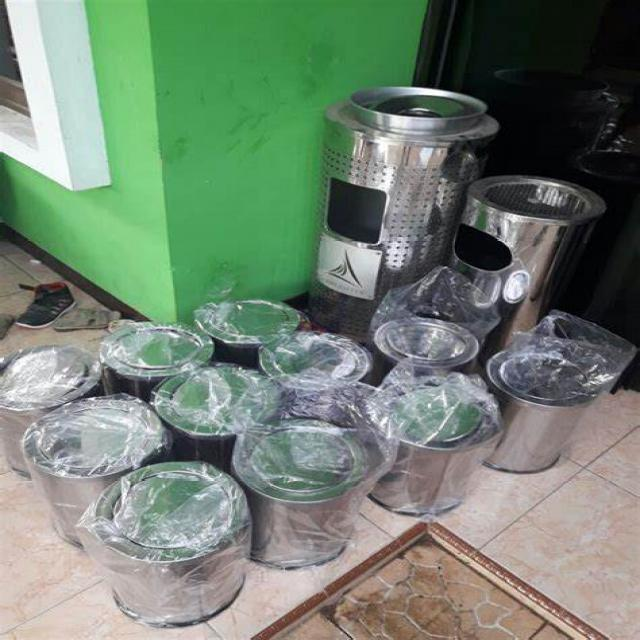garbage container: (324, 77, 508, 322), (94, 456, 252, 637), (469, 153, 601, 337), (491, 344, 632, 510), (243, 422, 373, 595), (372, 377, 501, 538), (18, 399, 146, 540), (99, 302, 216, 405), (164, 365, 274, 471), (199, 286, 302, 382), (272, 340, 373, 425), (1, 340, 85, 437)
